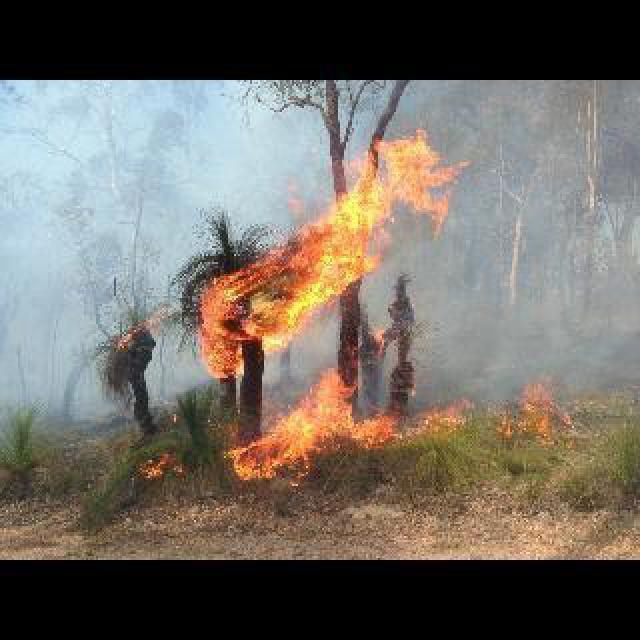Fire: (182, 126, 444, 386), (224, 354, 578, 488)
Smoke: (2, 84, 210, 386), (439, 97, 640, 390)
